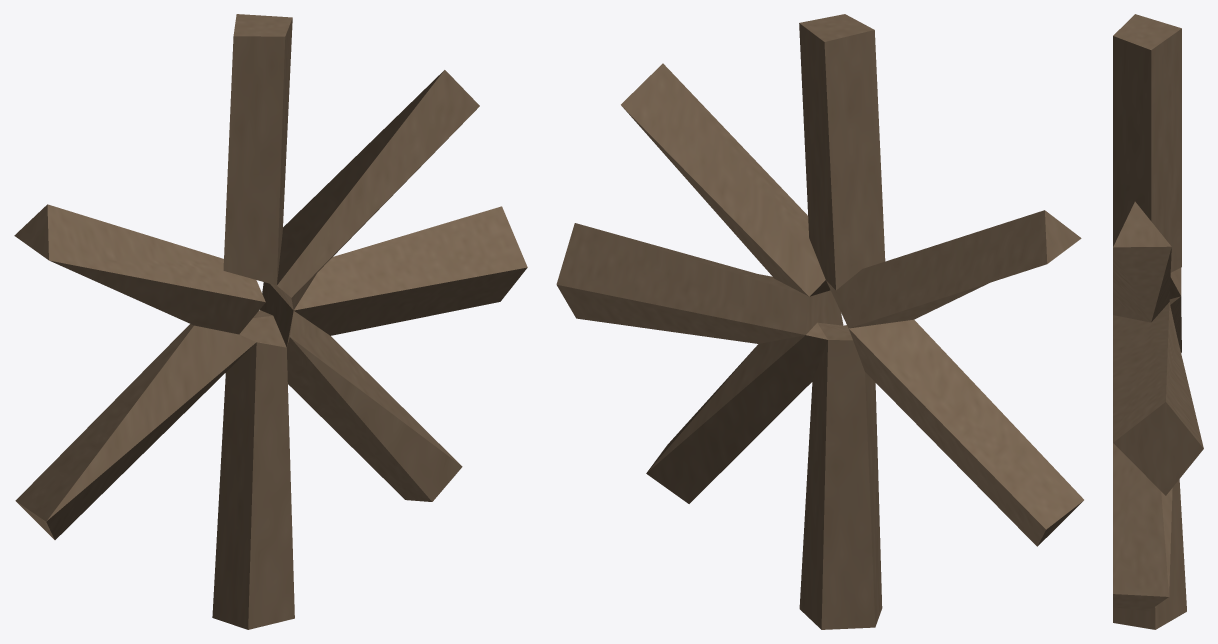
File: ice_share_campfire.FBX
3 renders of one model, left to right at view 1: azimuth 30°, elevation 25°; view 2: azimuth 150°, elevation 25°; view 3: azimuth 270°, elevation 25°, orthographic.
Parts seen in each view (by area): view 1: winter_night_campfire; view 2: winter_night_campfire; view 3: winter_night_campfire.
Part boxes in pixels (x1,y1,x2,y2): winter_night_campfire: (14,14,527,629); winter_night_campfire: (556,14,1083,629); winter_night_campfire: (1113,14,1203,629).
Size of the model in its own units: 45.54 by 52.92 by 7.46.
